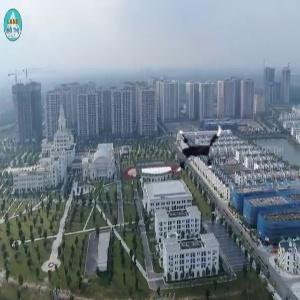drone: (158, 109, 233, 184)
